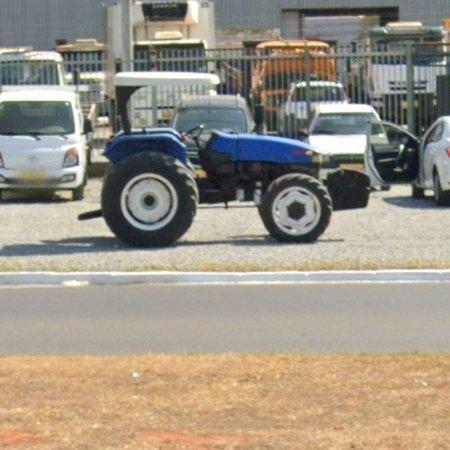tractors: (102, 128, 338, 246)
